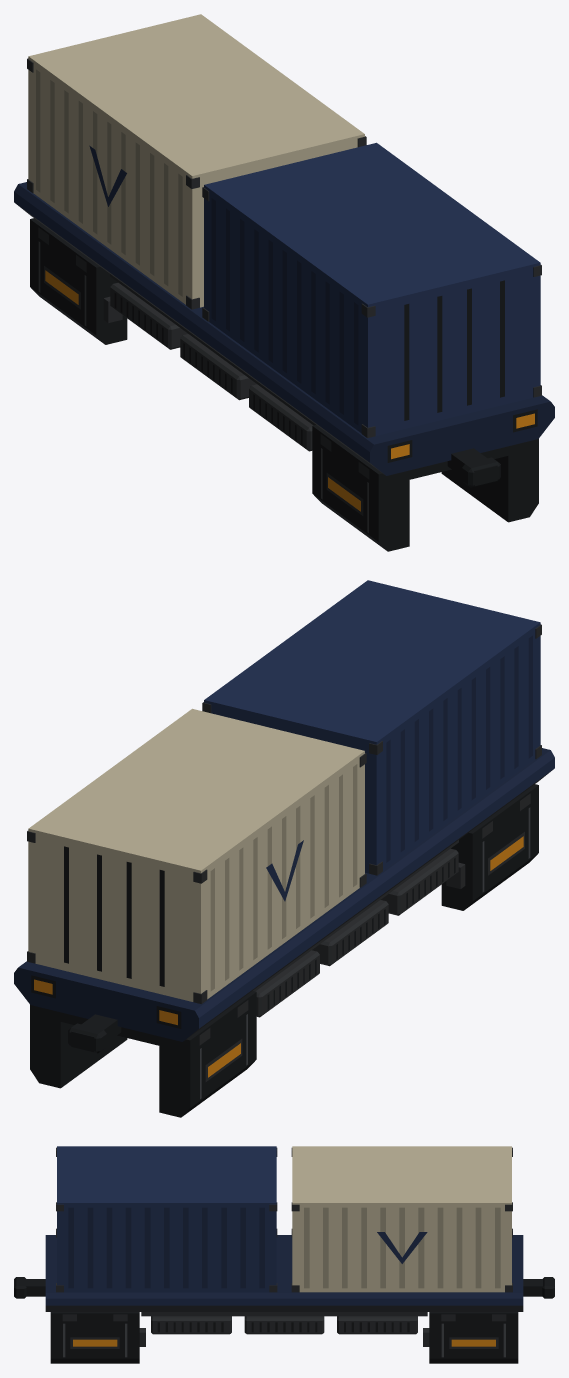
The model's file is colony-containers.glb.
3 renders of one model, top to bottom at view 1: azimuth 30°, elevation 25°; view 2: azimuth 150°, elevation 25°; view 3: azimuth 270°, elevation 25°, orthographic. The views are drawn at different scales.
Parts seen in each view (by area): view 1: colony-containers; view 2: colony-containers; view 3: colony-containers.
Part boxes in pixels (x1,y1,x2,y2): colony-containers: [14, 14, 554, 551]; colony-containers: [14, 580, 554, 1117]; colony-containers: [14, 1146, 554, 1363].
Bounding box in the file's own units: 9 × 11.5 × 34.
